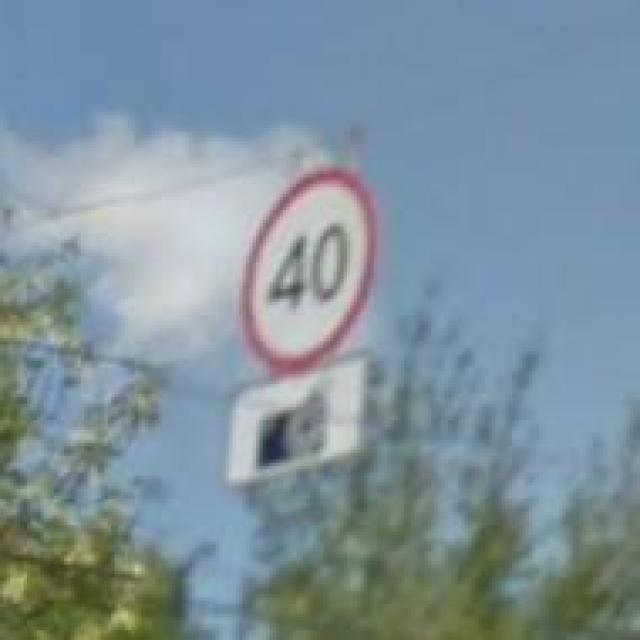traffic_sign: (236, 164, 380, 381)
